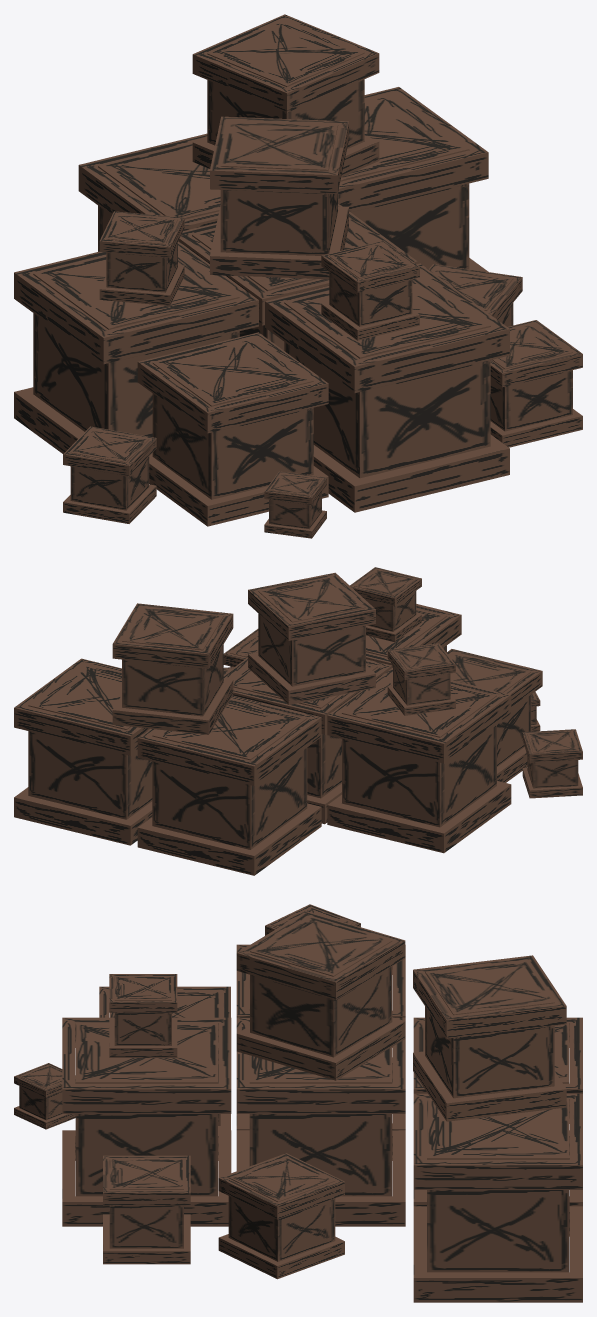
Rendered from Grupo_de_cajas.fbx.
The picture shows the model from 3 angles, top to bottom: view 1: azimuth 30°, elevation 25°; view 2: azimuth 150°, elevation 25°; view 3: azimuth 270°, elevation 25°; orthographic projection. The views are drawn at different scales.
Visible parts, largest first — view 1: Grupo_de_cajas; view 2: Grupo_de_cajas; view 3: Grupo_de_cajas.
Part boxes in pixels (x1,y1,x2,y2): Grupo_de_cajas: [14, 14, 582, 538]; Grupo_de_cajas: [14, 567, 582, 875]; Grupo_de_cajas: [14, 904, 582, 1302].
Size of the model in its own units: 550 by 245 by 525.
1 material, 1 textured.
